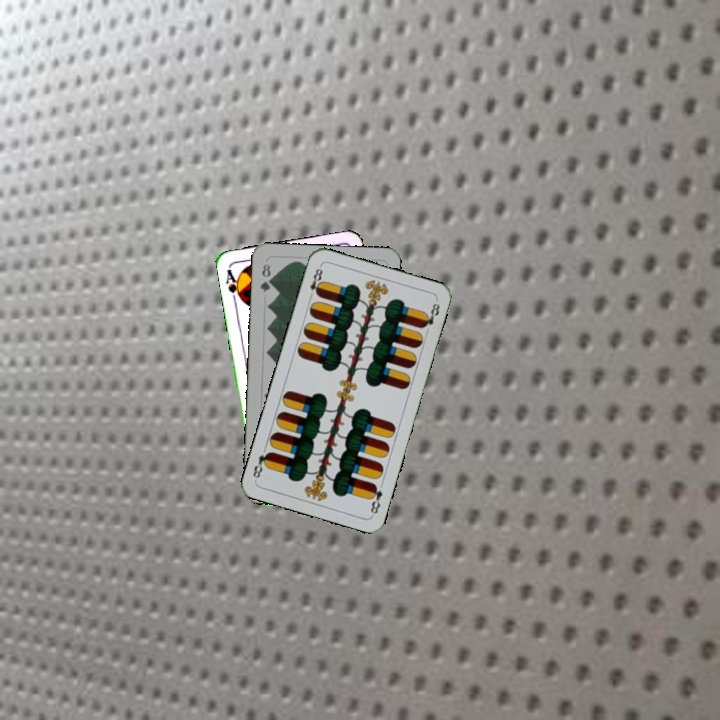E8: (305, 262, 325, 302), (366, 479, 385, 518)
G8: (256, 260, 274, 295)
SA: (222, 265, 245, 305)
